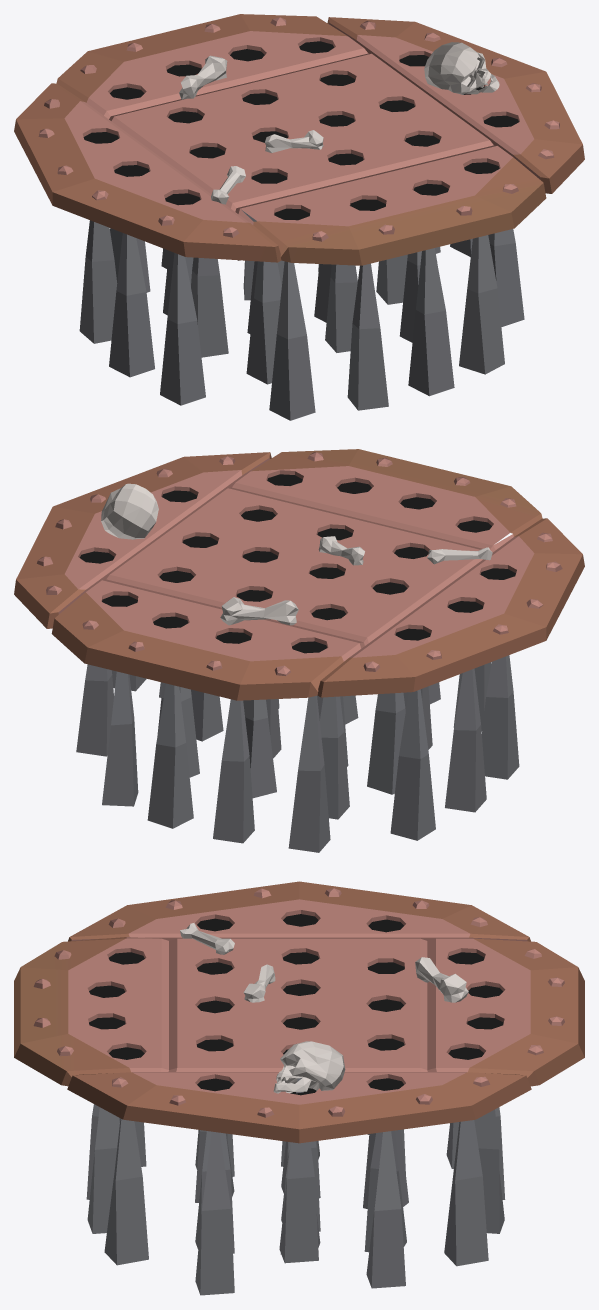
The model's file is spikeTrap.fbx.
The picture shows the model from 3 angles, top to bottom: view 1: azimuth 30°, elevation 25°; view 2: azimuth 150°, elevation 25°; view 3: azimuth 270°, elevation 25°; orthographic projection. The views are drawn at different scales.
Visible parts, largest first — view 1: spikeTrapBase, spikeTrapMain; view 2: spikeTrapBase, spikeTrapMain; view 3: spikeTrapBase, spikeTrapMain.
Boxes of the visible parts, x1=… form: spikeTrapBase: x1=14, y1=14, x2=584, y2=265; spikeTrapMain: x1=79, y1=42, x2=524, y2=420; spikeTrapBase: x1=14, y1=449, x2=584, y2=700; spikeTrapMain: x1=76, y1=483, x2=519, y2=852; spikeTrapBase: x1=14, y1=881, x2=584, y2=1143; spikeTrapMain: x1=86, y1=1041, x2=505, y2=1295.
Size of the model in its own units: 4.35 by 2.02 by 4.24.
1 material, 1 textured.
